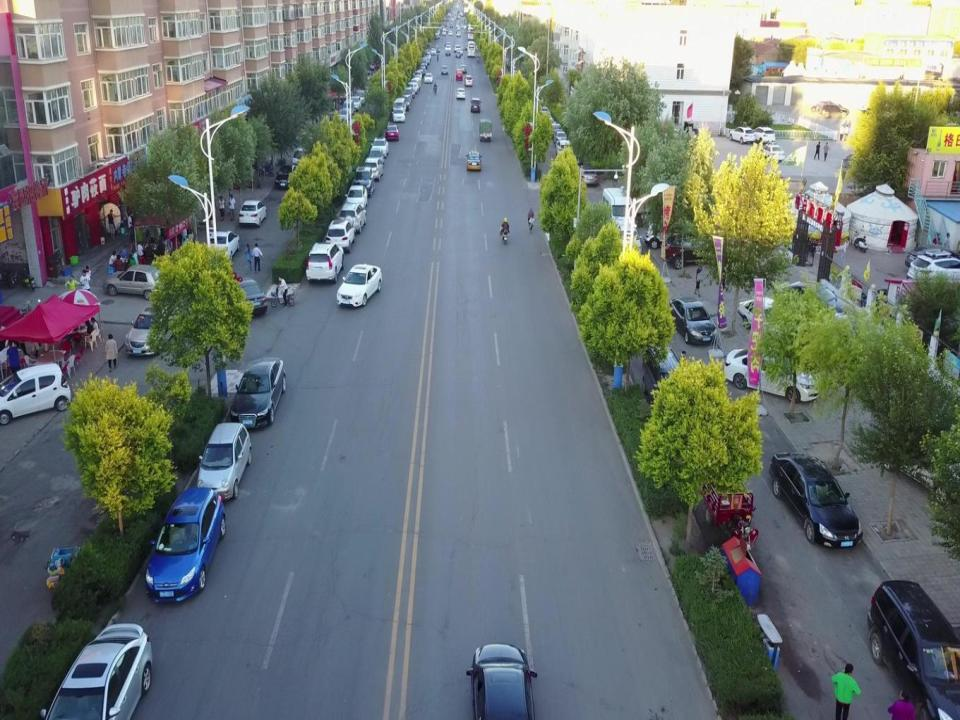bus: (466, 38, 476, 57)
car: (867, 580, 960, 719), (37, 622, 154, 720), (144, 487, 227, 604), (768, 450, 863, 550), (723, 342, 822, 404), (465, 643, 539, 720), (196, 420, 253, 502), (229, 356, 288, 431), (0, 362, 71, 424), (777, 279, 857, 331), (124, 303, 180, 358), (737, 296, 800, 342), (663, 230, 723, 271), (668, 298, 719, 346), (103, 265, 166, 301), (335, 264, 383, 308), (905, 249, 960, 285), (644, 214, 694, 251), (232, 274, 268, 319), (903, 245, 960, 273), (306, 241, 344, 283), (205, 228, 240, 264), (324, 218, 356, 254), (338, 200, 368, 236), (238, 200, 268, 228), (352, 166, 376, 197), (344, 184, 368, 211), (274, 164, 298, 190), (361, 156, 384, 183), (758, 141, 785, 162), (819, 102, 848, 121), (366, 147, 386, 174), (728, 125, 756, 144), (577, 162, 598, 187), (750, 125, 777, 143), (370, 136, 389, 157), (464, 150, 483, 170), (554, 139, 572, 158), (384, 123, 400, 142), (397, 91, 411, 110), (336, 108, 350, 126), (391, 108, 406, 124), (552, 130, 568, 145), (404, 81, 418, 96), (470, 96, 482, 113), (548, 122, 562, 136), (349, 95, 361, 110), (540, 105, 550, 122), (539, 109, 551, 123), (402, 88, 415, 100), (409, 77, 421, 90), (544, 116, 556, 129), (454, 87, 466, 100), (422, 72, 434, 84), (412, 70, 423, 82), (458, 63, 468, 76), (419, 57, 428, 69), (416, 63, 426, 73), (440, 64, 449, 75), (429, 47, 437, 56), (423, 51, 430, 60), (422, 56, 429, 64), (455, 50, 461, 58), (445, 48, 451, 56)
truck: (479, 118, 493, 143)
van: (640, 344, 686, 414), (599, 187, 636, 234), (614, 221, 642, 256), (291, 144, 315, 173), (342, 98, 355, 118), (392, 97, 406, 115), (355, 88, 366, 105), (463, 74, 473, 88), (454, 67, 464, 81)
